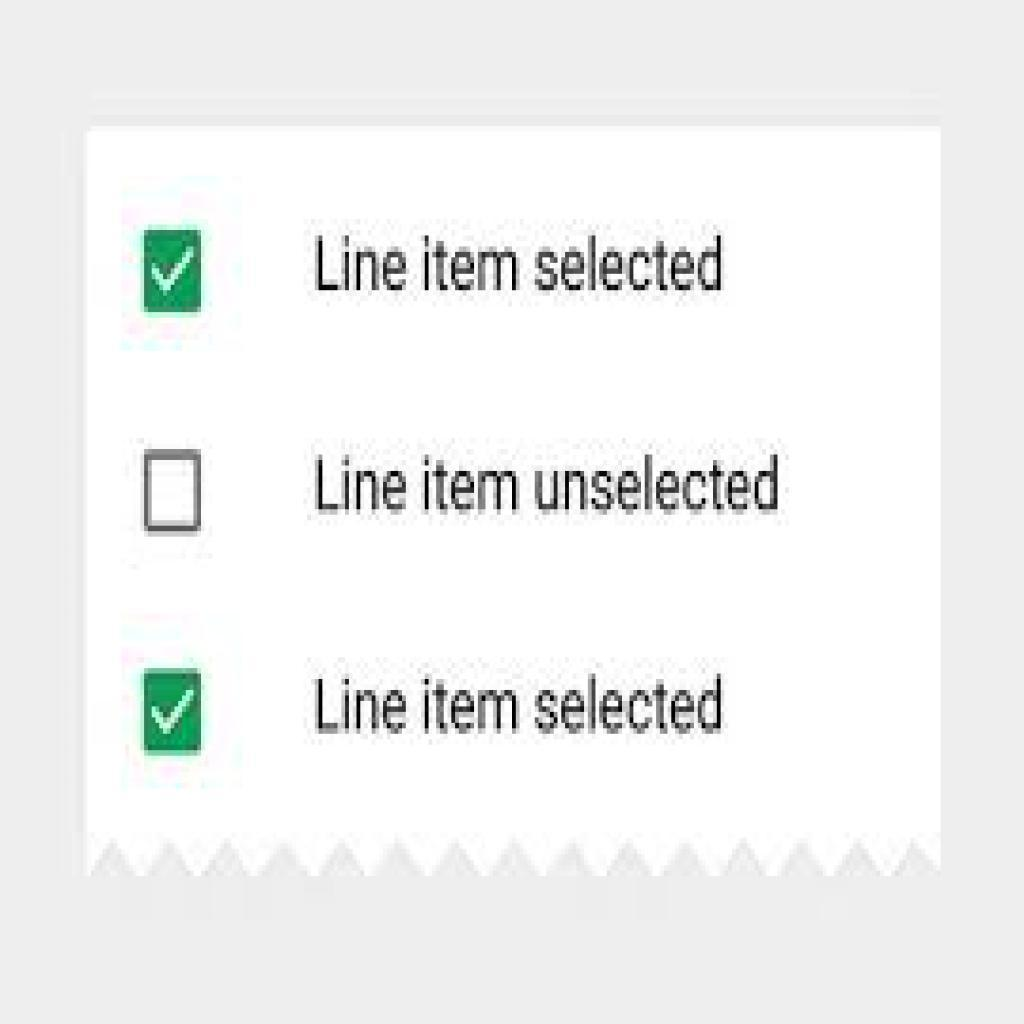checkbox: (144, 666, 203, 754), (143, 229, 203, 315), (143, 447, 203, 529)
